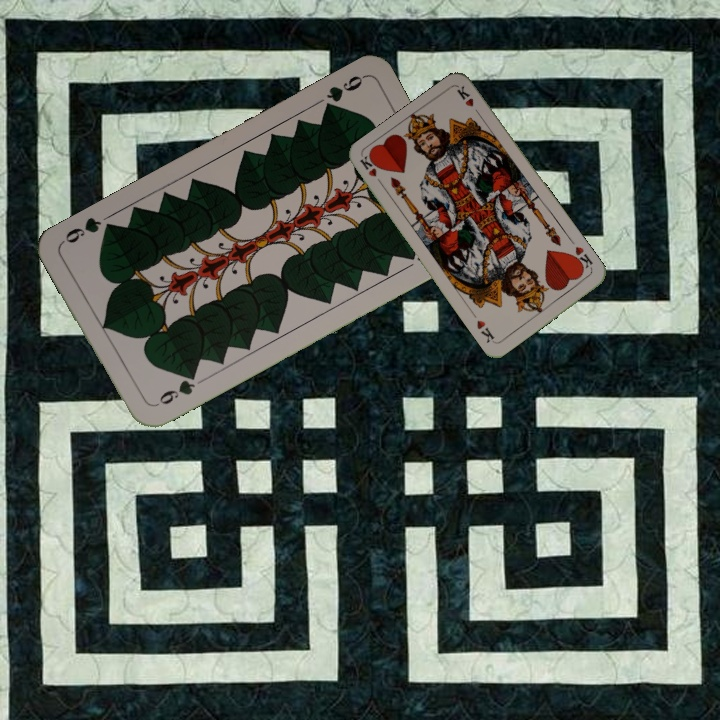G9: (319, 71, 367, 116), (149, 368, 199, 410)
HK: (356, 152, 387, 190), (568, 242, 595, 274)
